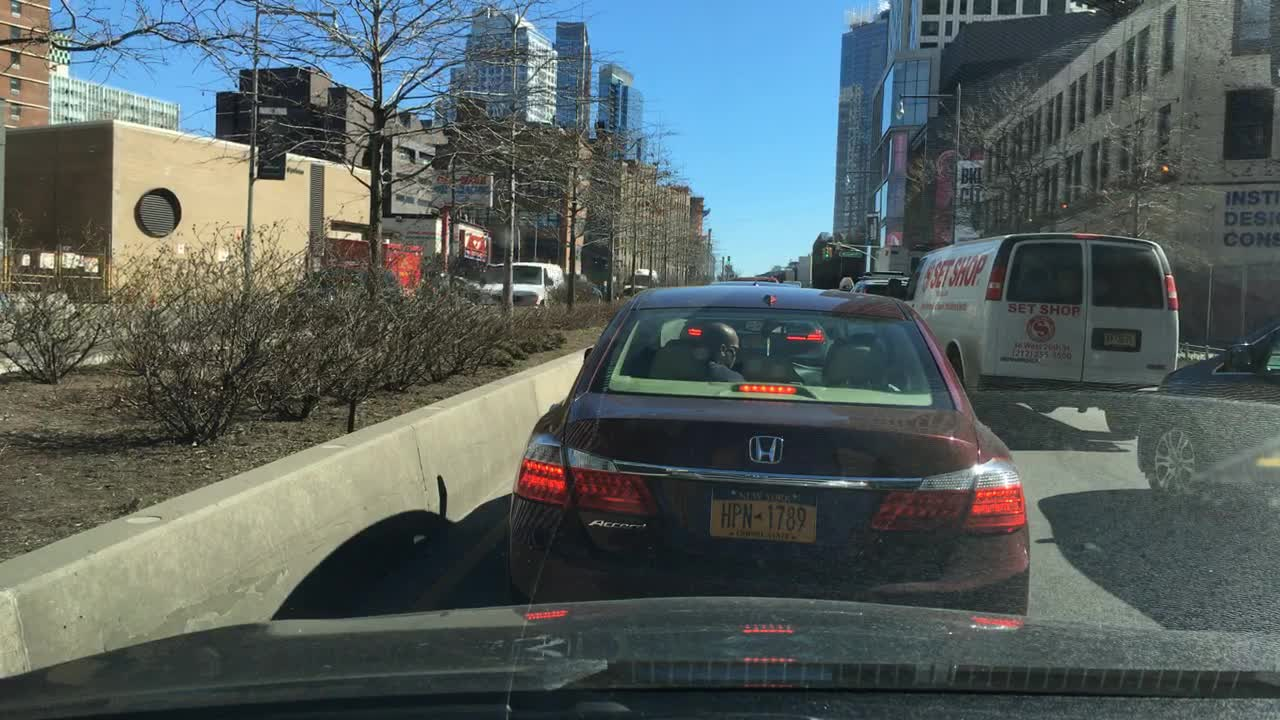car: (507, 287, 1034, 619), (919, 230, 1186, 443), (1135, 322, 1279, 513), (479, 260, 566, 311), (707, 272, 793, 292), (849, 272, 918, 296), (628, 266, 661, 300)
traffic light: (819, 246, 831, 261)
traffic sign: (432, 168, 493, 210), (519, 209, 562, 228), (839, 250, 865, 259)
